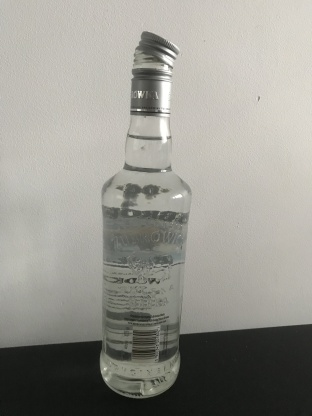nakretka: (128, 27, 180, 117)
